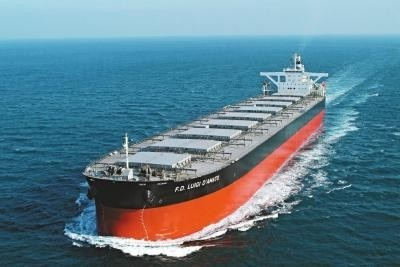Cargoship: (78, 48, 329, 238)
